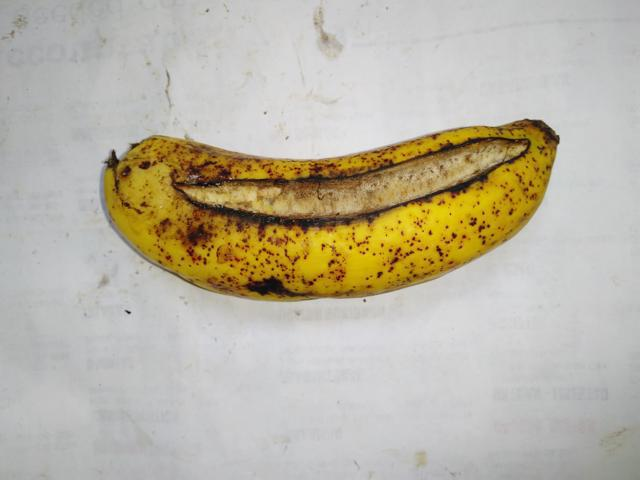rotten: (154, 125, 537, 239)
